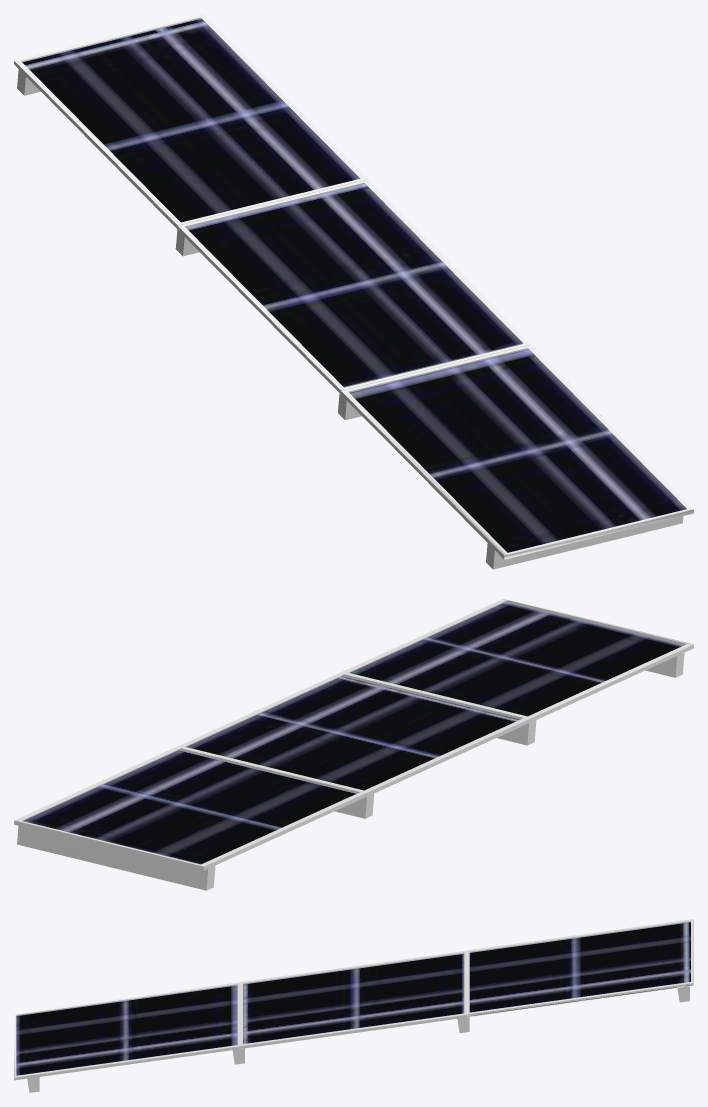
The model's file is YChePengBan.glb.
The picture shows the model from 3 angles, top to bottom: view 1: azimuth 30°, elevation 25°; view 2: azimuth 150°, elevation 25°; view 3: azimuth 270°, elevation 25°; orthographic projection. The views are drawn at different scales.
Parts seen in each view (by area): view 1: Peng_Center; view 2: Peng_Center; view 3: Peng_Center.
Boxes of the visible parts, <box> form: Peng_Center: <box>14,14,693,569</box>; Peng_Center: <box>14,598,693,890</box>; Peng_Center: <box>14,919,693,1092</box>.
Bounding box in the file's own units: 1.24 × 0.9913 × 5.56.
Materials: 2 (1 with a texture image).
